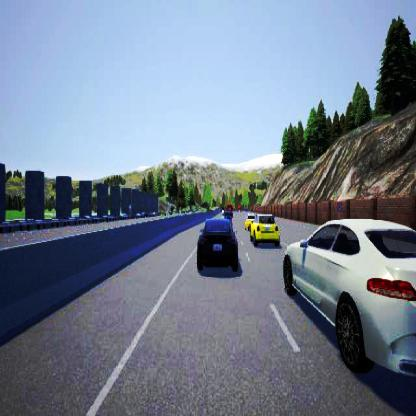vehicle: (282, 218, 415, 376), (197, 204, 238, 270), (244, 214, 279, 245)
